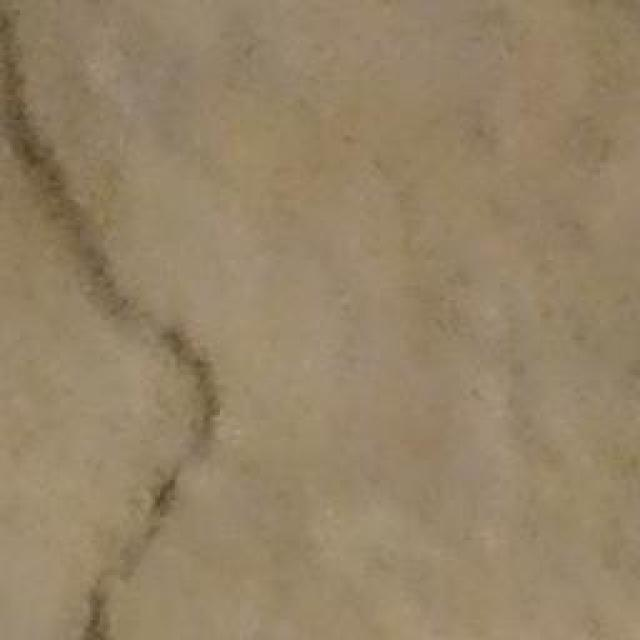Longitudinal: (0, 18, 225, 638)
